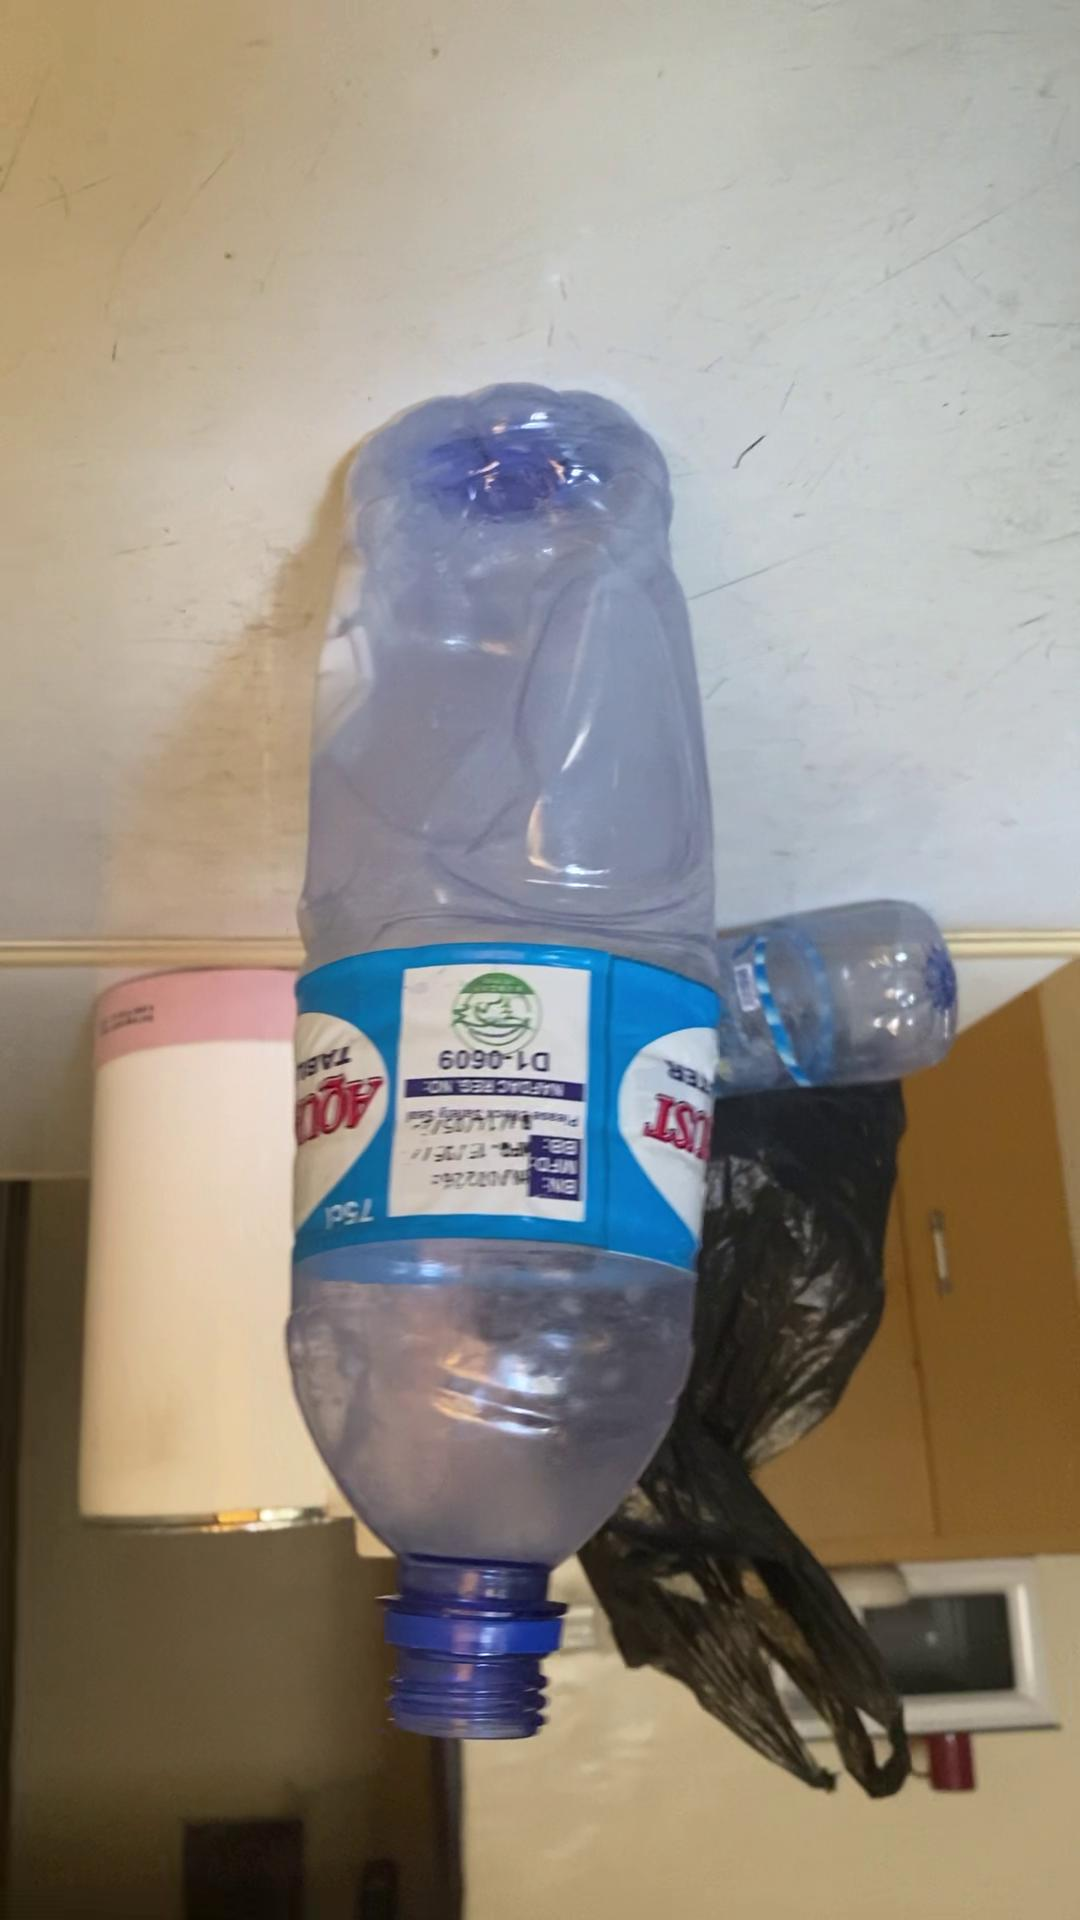crumbled: (272, 386, 723, 1746)
label: (285, 960, 705, 1262)
no-cap: (373, 1615, 574, 1749)
